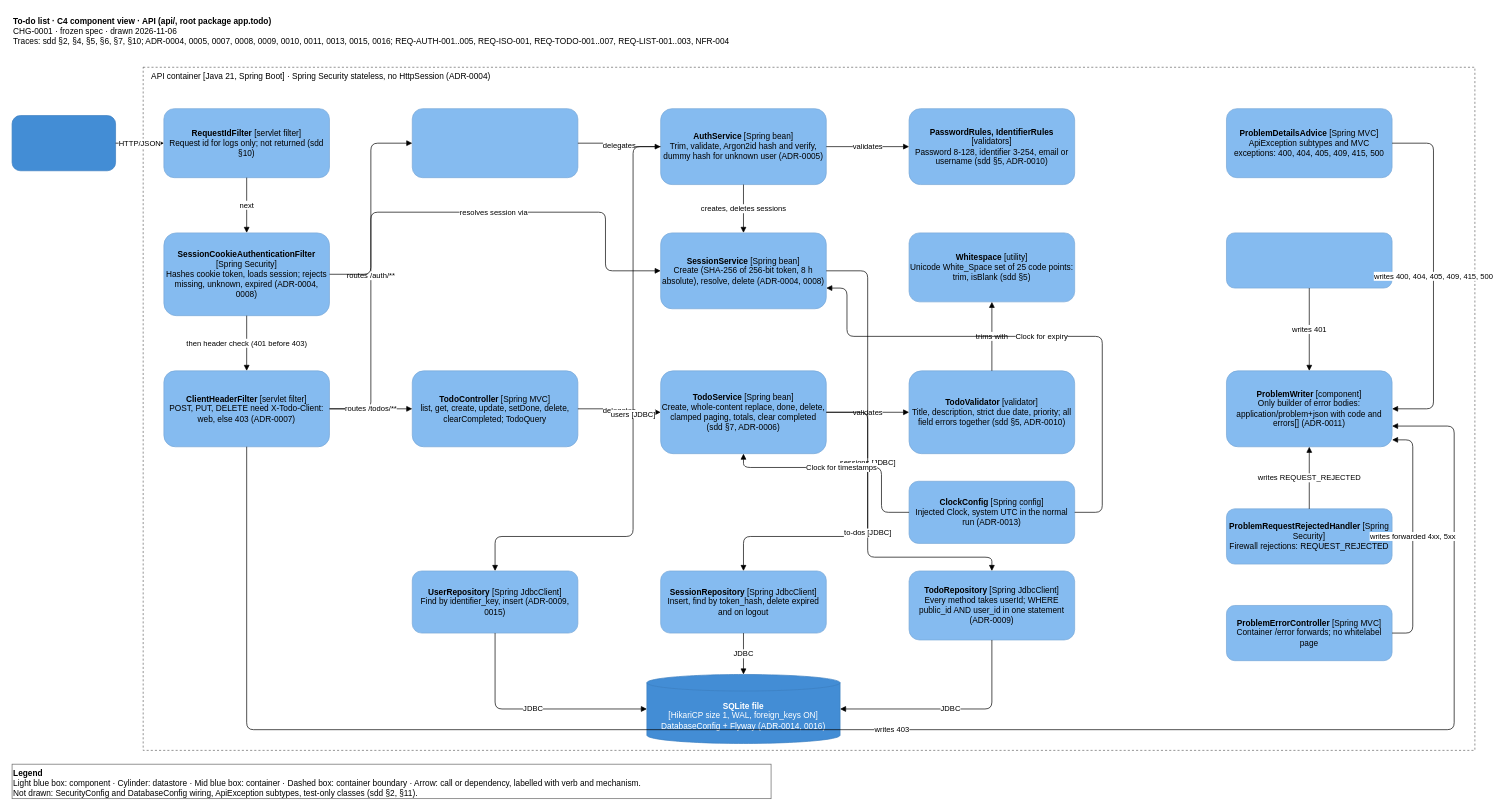
The diagram is 1505 pixels wide and 811 high, and some of its shapes have lost their labels. Here are the shapes that lost their labels. From the top down, the centre of each, then its label:
pixel 63 143: SPA [React, TypeScript] Calls /api/v1/**
pixel 495 143: AuthController [Spring MVC] signUp, logIn, logOut, getSession
pixel 1309 260: ProblemAuthenticationEntryPoint [Spring Security] 401 UNAUTHENTICATED
